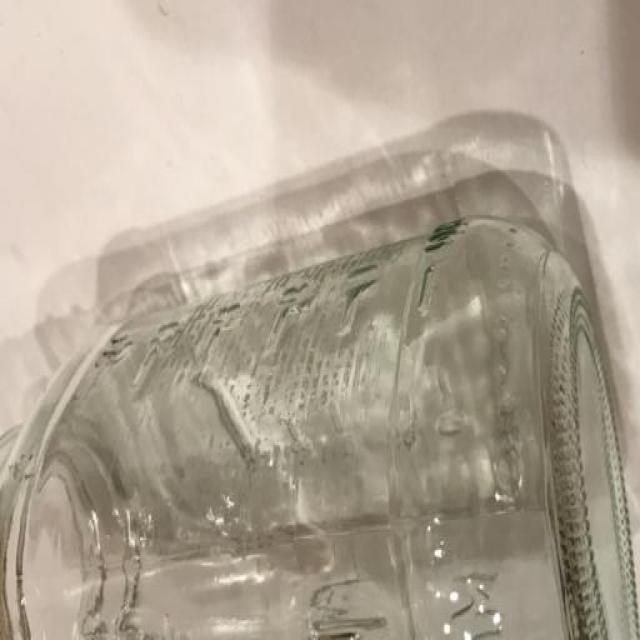glass: (1, 209, 640, 640)
